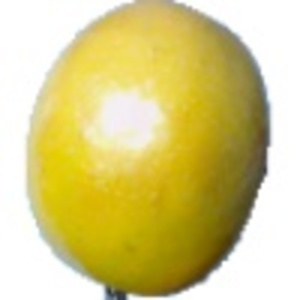maracujá: (1, 1, 274, 300)
